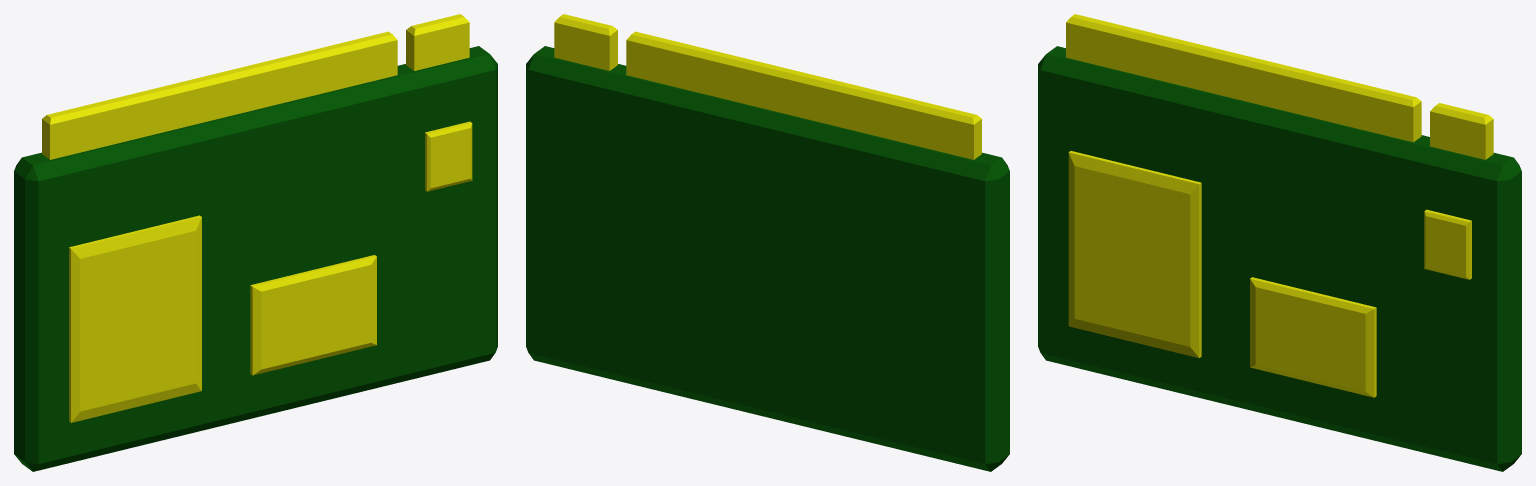
File: Tarjeta_1.fbx
3 renders of one model, left to right at view 1: azimuth 30°, elevation 25°; view 2: azimuth 150°, elevation 25°; view 3: azimuth 330°, elevation 25°, orthographic.
Parts seen in each view (by area): view 1: pCube7; view 2: pCube7; view 3: pCube7.
Part boxes in pixels (box(x1,y1,x2,y2)): pCube7: box(14, 14, 497, 471); pCube7: box(526, 14, 1009, 471); pCube7: box(1038, 14, 1521, 471).
Bounding box in the file's own units: 1.61 × 1.13 × 0.1537.
